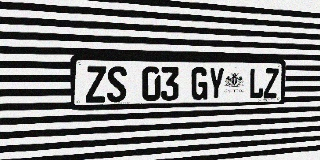0: (142, 66, 161, 101)
3: (161, 67, 179, 101)
G: (191, 67, 208, 100)
L: (249, 68, 264, 99)
S: (107, 66, 127, 102)
Y: (208, 67, 225, 100)
Z: (85, 66, 106, 103), (263, 68, 279, 98)
